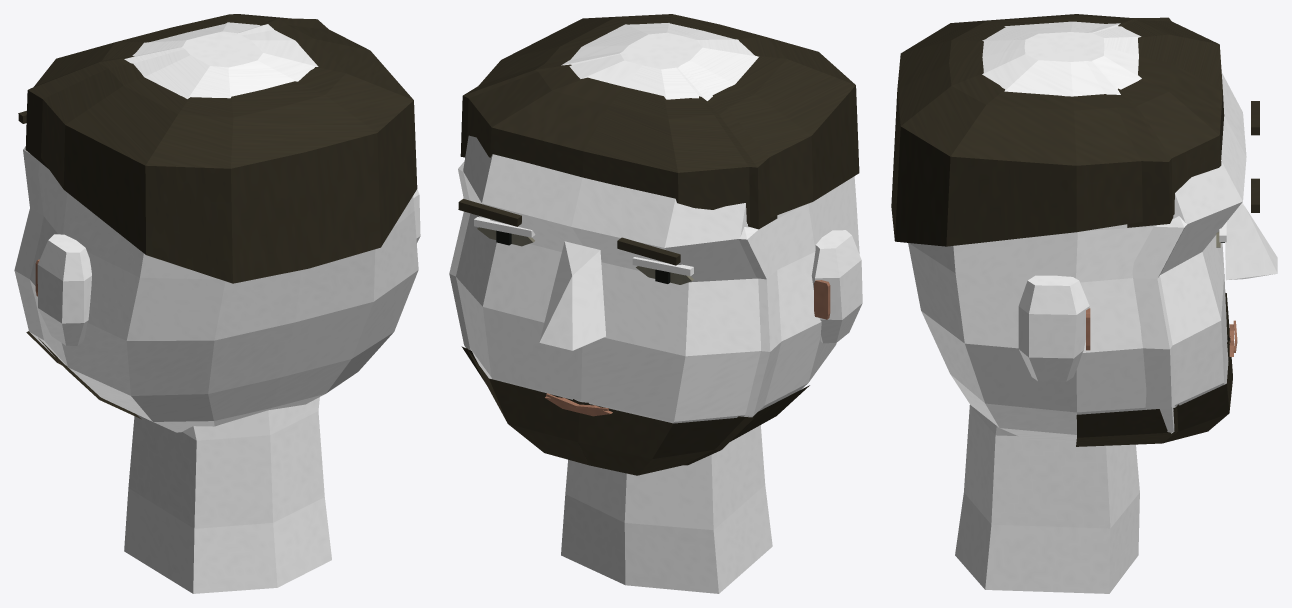
3 views of the same model, side by side, from view 1: azimuth 30°, elevation 25°; view 2: azimuth 150°, elevation 25°; view 3: azimuth 270°, elevation 25° (orthographic).
Visible parts, largest first — view 1: face_02_head_LOD0_RAID_skin.001, face_02_head_LOD0_RAID_hair2.001, face_02_head_LOD1_RAID_skin.001, face_02_head_LOD1_RAID_hair2.001; view 2: face_02_head_LOD0_RAID_skin.001, face_02_head_LOD0_RAID_hair2.001, face_02_head_LOD1_RAID_skin.001, face_02_head_LOD1_RAID_hair2.001, face_02_head_LOD0_RAID_lip.001, face_02_head_LOD0_RAID_eye.001; view 3: face_02_head_LOD0_RAID_skin.001, face_02_head_LOD0_RAID_hair2.001, face_02_head_LOD1_RAID_skin.001, face_02_head_LOD1_RAID_hair2.001.
Boxes of the visible parts, bbox=[...] form: face_02_head_LOD0_RAID_skin.001: bbox=[30, 22, 420, 593]; face_02_head_LOD0_RAID_hair2.001: bbox=[18, 14, 417, 419]; face_02_head_LOD1_RAID_skin.001: bbox=[14, 24, 273, 365]; face_02_head_LOD1_RAID_hair2.001: bbox=[25, 18, 328, 365]; face_02_head_LOD0_RAID_skin.001: bbox=[456, 23, 862, 593]; face_02_head_LOD0_RAID_hair2.001: bbox=[458, 14, 859, 475]; face_02_head_LOD1_RAID_skin.001: bbox=[449, 35, 781, 417]; face_02_head_LOD1_RAID_hair2.001: bbox=[460, 60, 777, 465]; face_02_head_LOD0_RAID_lip.001: bbox=[545, 280, 830, 416]; face_02_head_LOD0_RAID_eye.001: bbox=[477, 227, 693, 284]; face_02_head_LOD0_RAID_skin.001: bbox=[908, 21, 1277, 593]; face_02_head_LOD0_RAID_hair2.001: bbox=[891, 14, 1259, 446]; face_02_head_LOD1_RAID_skin.001: bbox=[1025, 23, 1187, 433]; face_02_head_LOD1_RAID_hair2.001: bbox=[1107, 17, 1230, 434].
Size of the model in its own units: 0.2884 by 0.379 by 0.261.
Materials: 5 (5 with a texture image).
